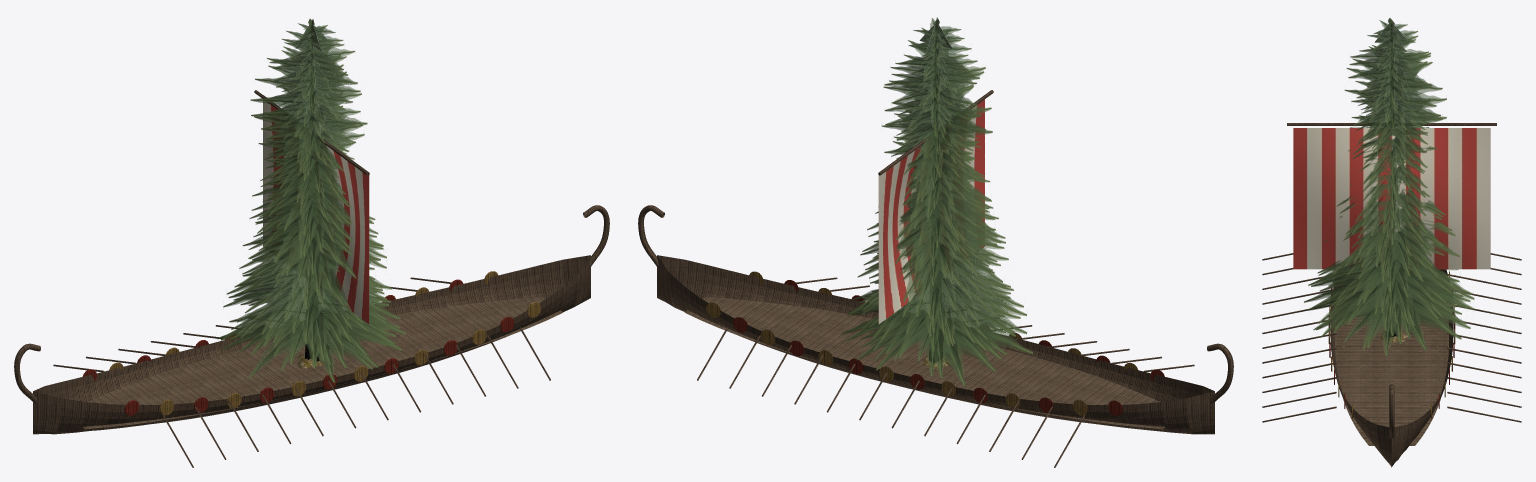
File: shared.glb
3 views of the same model, side by side, from view 1: azimuth 30°, elevation 25°; view 2: azimuth 150°, elevation 25°; view 3: azimuth 270°, elevation 25° (orthographic). The views are drawn at different scales.
Parts seen in each view (by area): view 1: ShipTpl, TreeTpl_Spruce_A, TreeTpl_Spruce_C, TreeTpl_Spruce_B, TreeTpl_Pine_A; view 2: ShipTpl, TreeTpl_Spruce_C, TreeTpl_Spruce_B, TreeTpl_Spruce_A, TreeTpl_Pine_A; view 3: ShipTpl, TreeTpl_Spruce_C, TreeTpl_Spruce_B, TreeTpl_Spruce_A, TreeTpl_Pine_A.
Boxes of the visible parts, x1,y1,x2,y2 form: ShipTpl: (14,90,609,467); TreeTpl_Spruce_A: (221,32,396,370); TreeTpl_Spruce_C: (217,20,399,378); TreeTpl_Spruce_B: (222,19,405,382); TreeTpl_Pine_A: (250,19,367,361); ShipTpl: (638,90,1233,467); TreeTpl_Spruce_C: (845,18,1032,386); TreeTpl_Spruce_B: (841,17,1027,376); TreeTpl_Spruce_A: (847,19,1020,371); TreeTpl_Pine_A: (881,18,992,362); ShipTpl: (1262,121,1521,467); TreeTpl_Spruce_C: (1304,32,1474,356); TreeTpl_Spruce_B: (1307,24,1472,350); TreeTpl_Spruce_A: (1308,18,1461,349); TreeTpl_Pine_A: (1344,18,1446,337).
Size of what is drawn, in the model's own units: 36.26 by 21.4 by 14.72.
5 materials, 5 textured.
